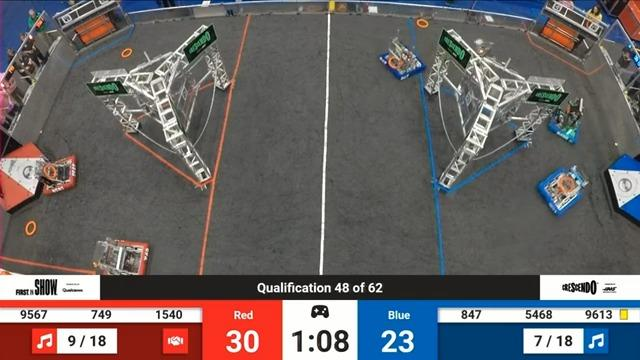robot: (537, 165, 584, 218), (94, 239, 150, 276), (379, 37, 426, 81), (547, 96, 585, 146), (41, 154, 78, 196)
